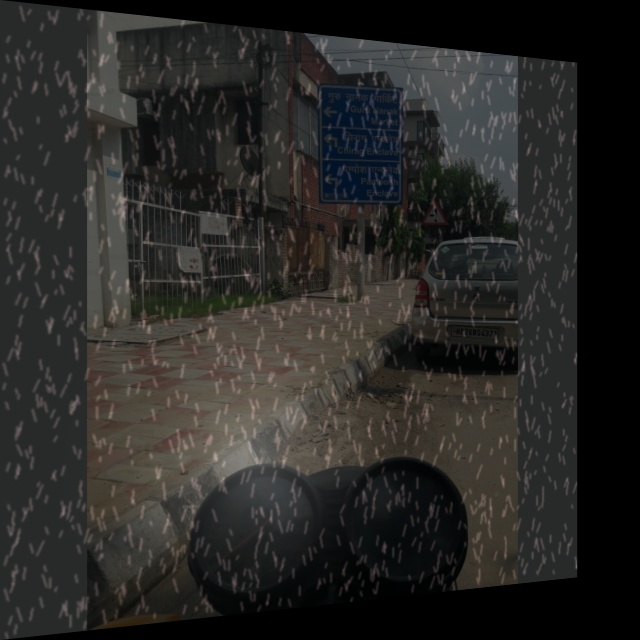Side_Road_Left: (418, 192, 450, 229)
